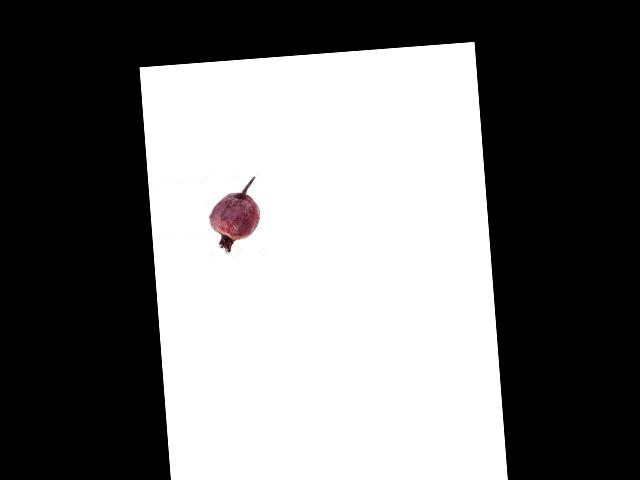beet: (207, 177, 262, 254)
